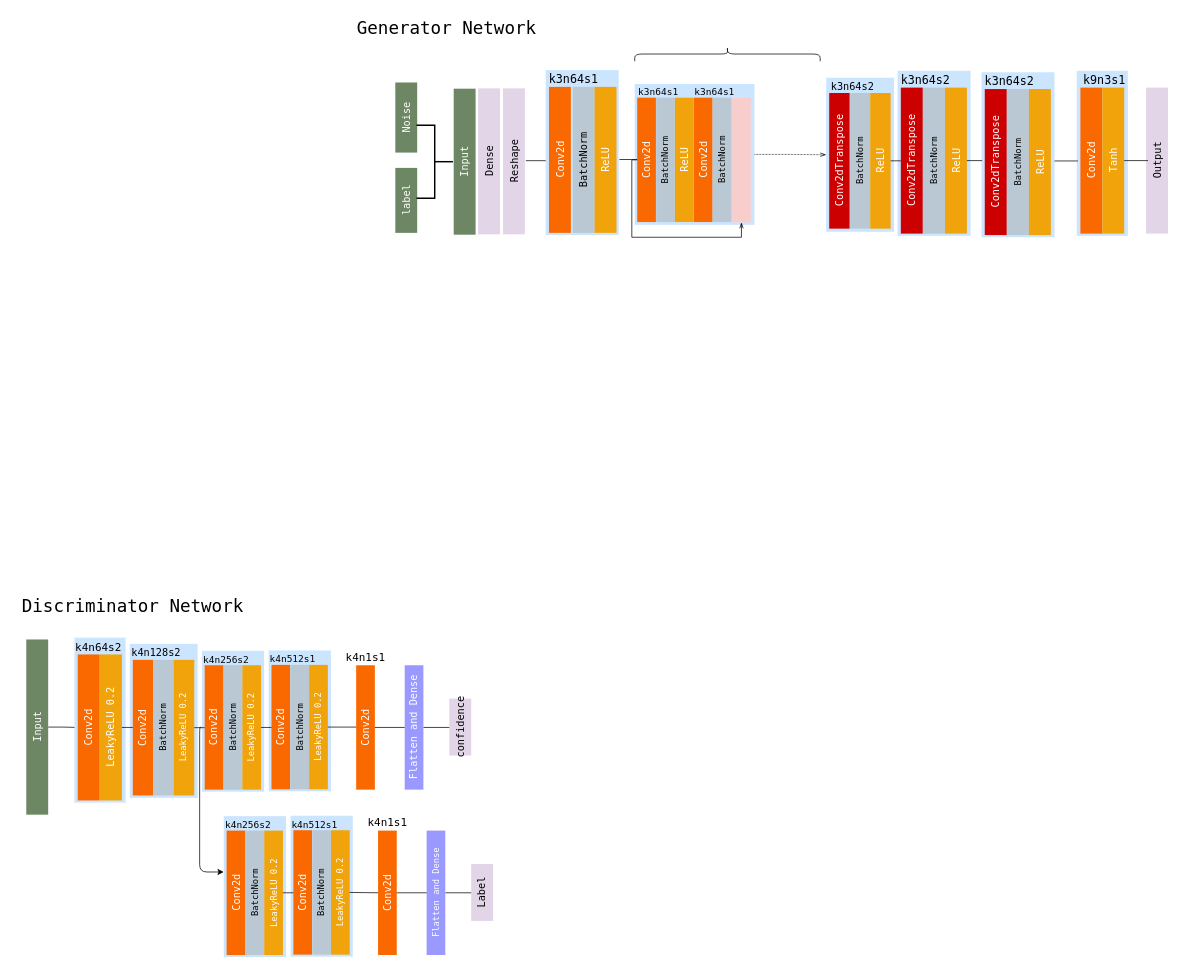
Image size: 1191x969. Some labels were removed from this diagram. Here are the shapes that lost their labels. From the top down, the centre of each, then its label:
At point (727, 53): "12 Residual Blocks".
At point (741, 160): "Sum".
